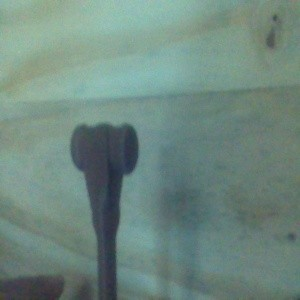palu: (69, 122, 139, 300)
